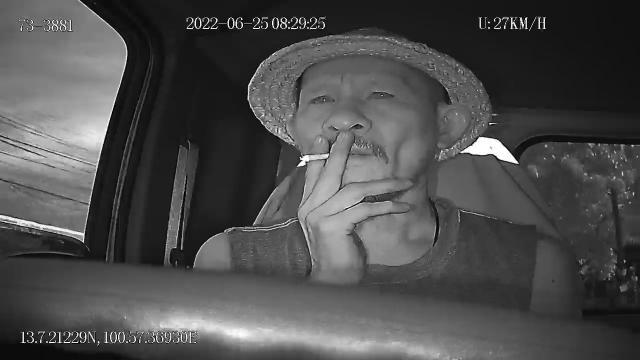SafeDriving: (363, 82, 400, 105), (305, 86, 340, 109)
Smoking: (296, 152, 330, 162)
